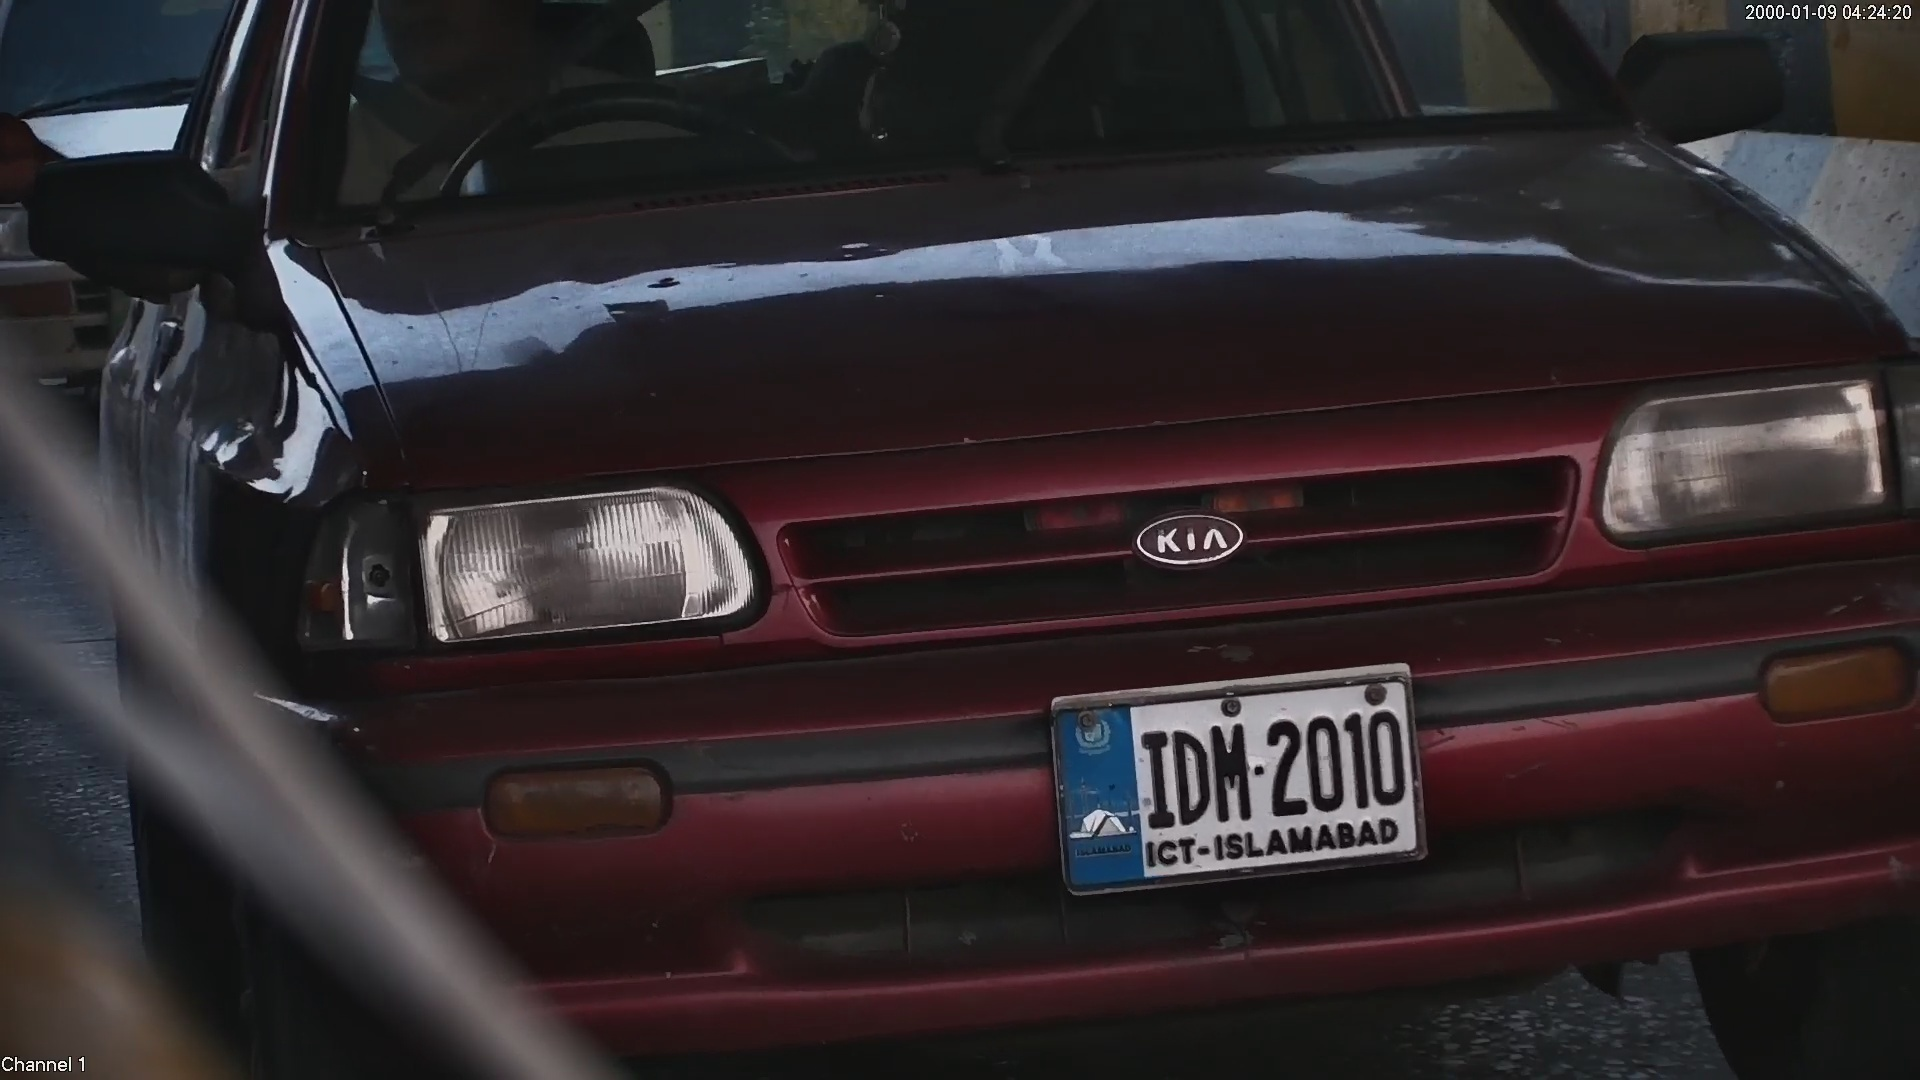Number_Plate: (1017, 657, 1445, 881)
Undefined: (328, 499, 745, 638), (1587, 381, 1917, 540), (476, 759, 687, 842), (1739, 642, 1919, 725), (1121, 503, 1258, 573)
